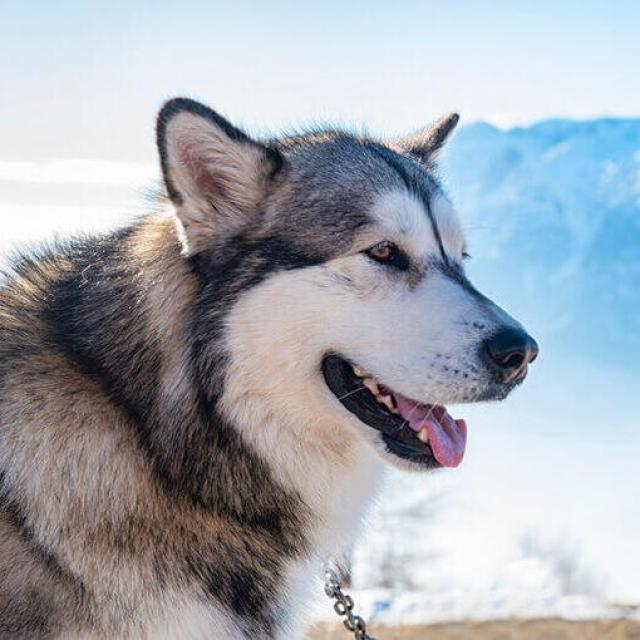ALASKAN_MALAMUTE: (0, 74, 557, 640)
